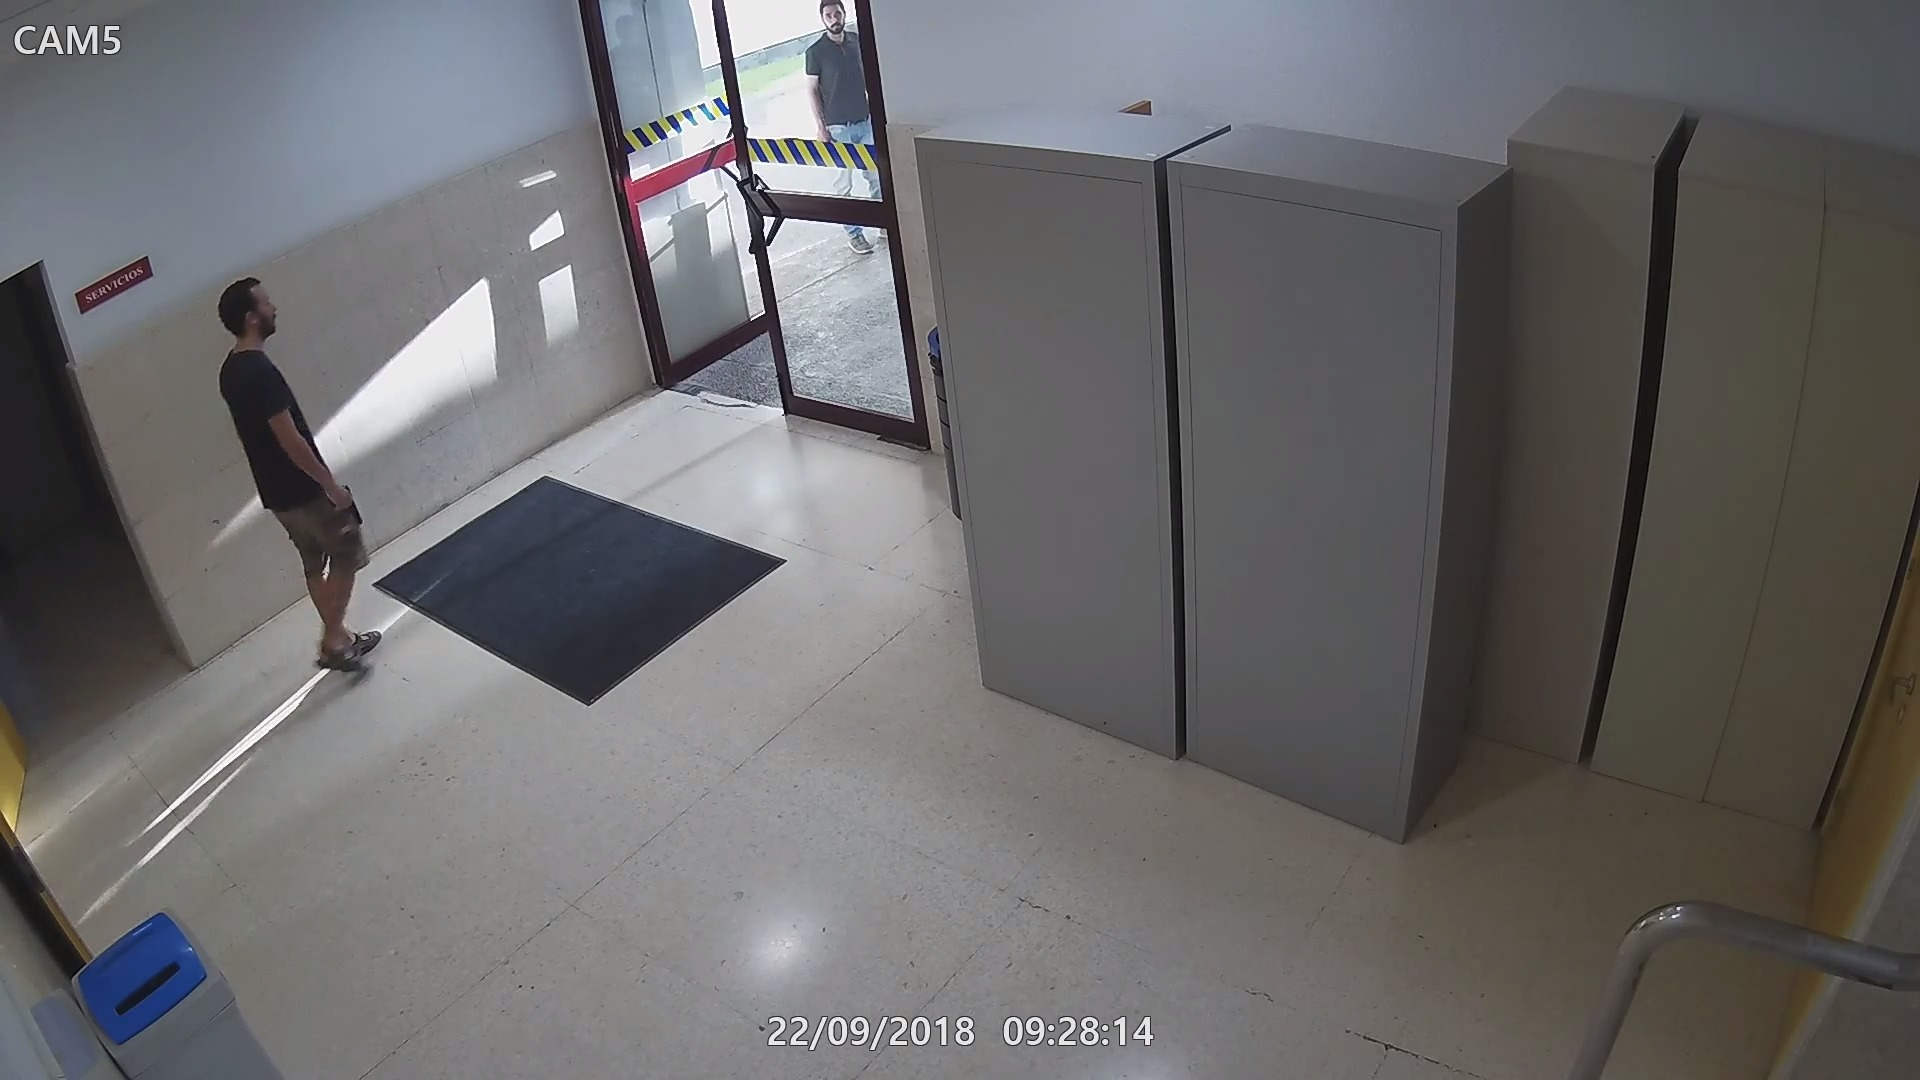Handgun: (320, 477, 364, 524)
